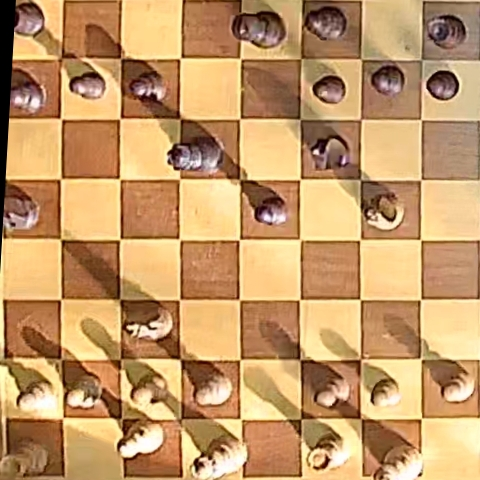black-bishop: (305, 6, 347, 41)
black-king: (232, 10, 286, 48)
black-knight: (4, 191, 40, 231), (311, 135, 350, 169)
black-pawn: (11, 79, 46, 114), (69, 70, 106, 100), (371, 65, 405, 97), (130, 71, 166, 101), (426, 70, 459, 100), (313, 75, 346, 104), (256, 197, 288, 226)
black-queen: (169, 138, 223, 171)
black-rook: (426, 14, 466, 49), (14, 2, 44, 35)
white-bishop: (119, 421, 163, 459), (132, 374, 169, 408)
white-king: (375, 444, 422, 478)
white-knight: (124, 305, 172, 341), (363, 193, 404, 230)
white-pawn: (195, 371, 233, 406), (314, 374, 350, 408), (17, 380, 55, 412), (67, 375, 102, 409), (442, 369, 476, 403), (371, 377, 402, 408)
white-queen: (191, 435, 247, 480)
white-rook: (1, 438, 49, 475), (308, 432, 349, 472)
